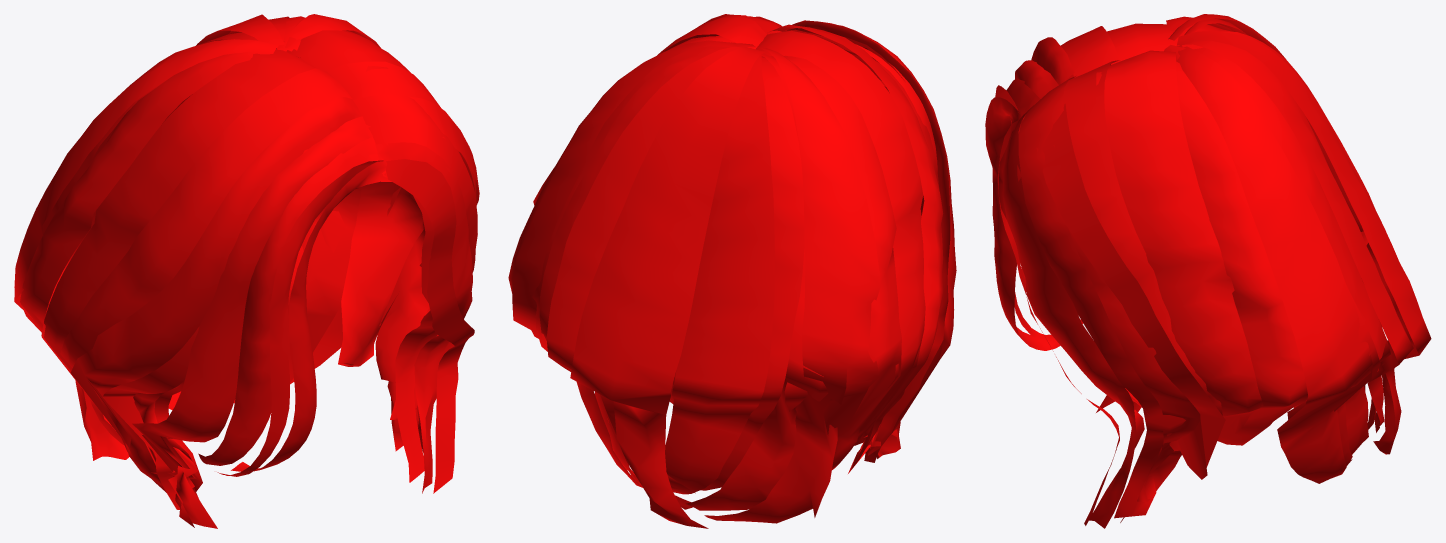
File: elvs_short_daisy_hair_F.glb
3 renders of one model, left to right at view 1: azimuth 30°, elevation 25°; view 2: azimuth 150°, elevation 25°; view 3: azimuth 270°, elevation 25°, orthographic. The views are drawn at different scales.
Bounding box in the file's own units: 0.2818 × 0.2913 × 0.2679.
1 material, 1 textured.
